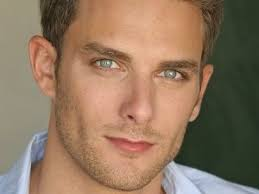white_male: (71, 5, 207, 181)
